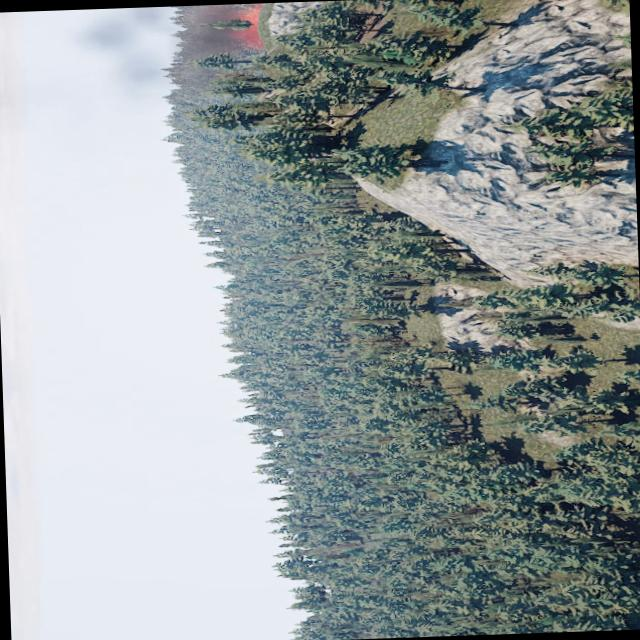fire: (230, 4, 266, 51)
smoke: (65, 5, 262, 96)
